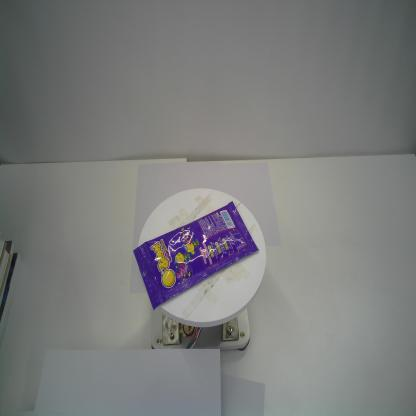Candy: (132, 200, 260, 311)
